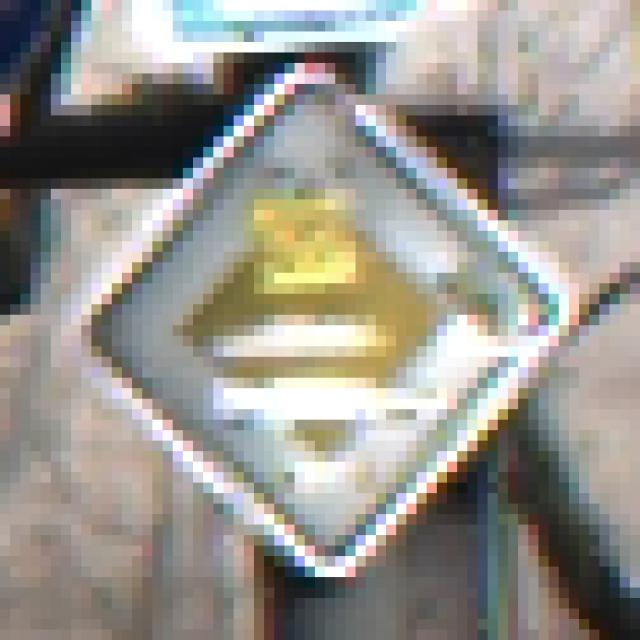Main Road: (62, 64, 590, 588)
